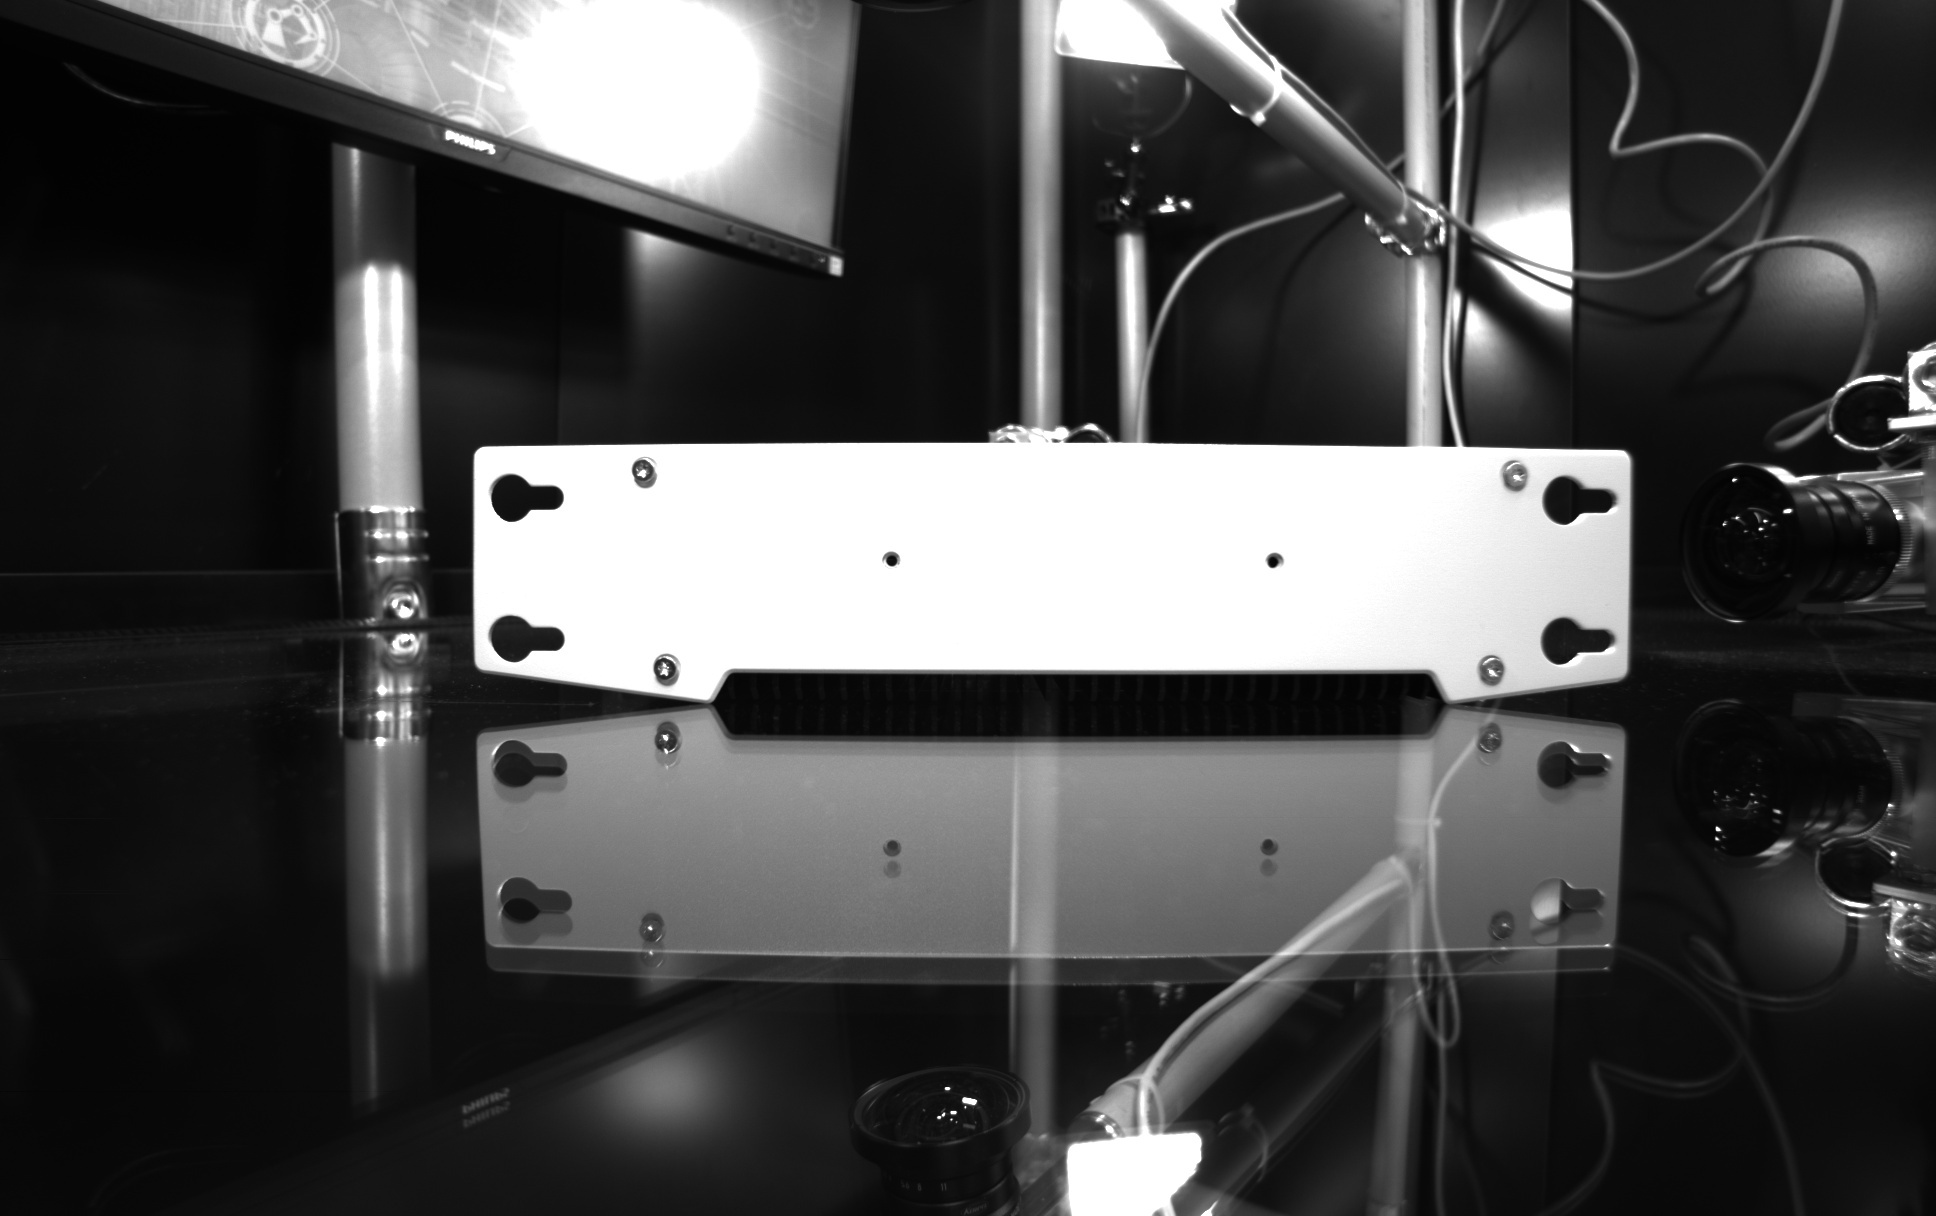CamBack: (443, 410, 1673, 703)
Schraube_gespiegelt: (632, 908, 675, 979), (643, 714, 691, 779), (1481, 899, 1521, 972), (1470, 719, 1513, 778)
Schraube_halb: (623, 452, 663, 493), (647, 650, 686, 691), (1472, 649, 1512, 689), (1498, 457, 1535, 496)
